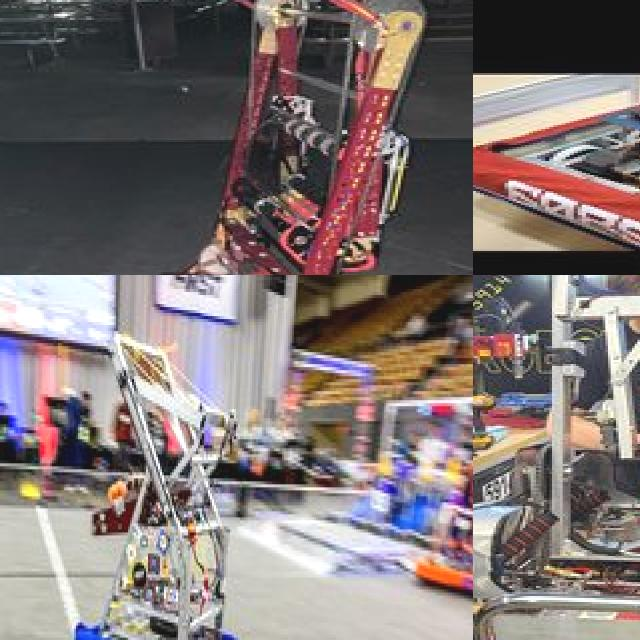FRC-Robots: (0, 0, 449, 275), (41, 279, 289, 640), (473, 275, 640, 640), (473, 39, 640, 257)
